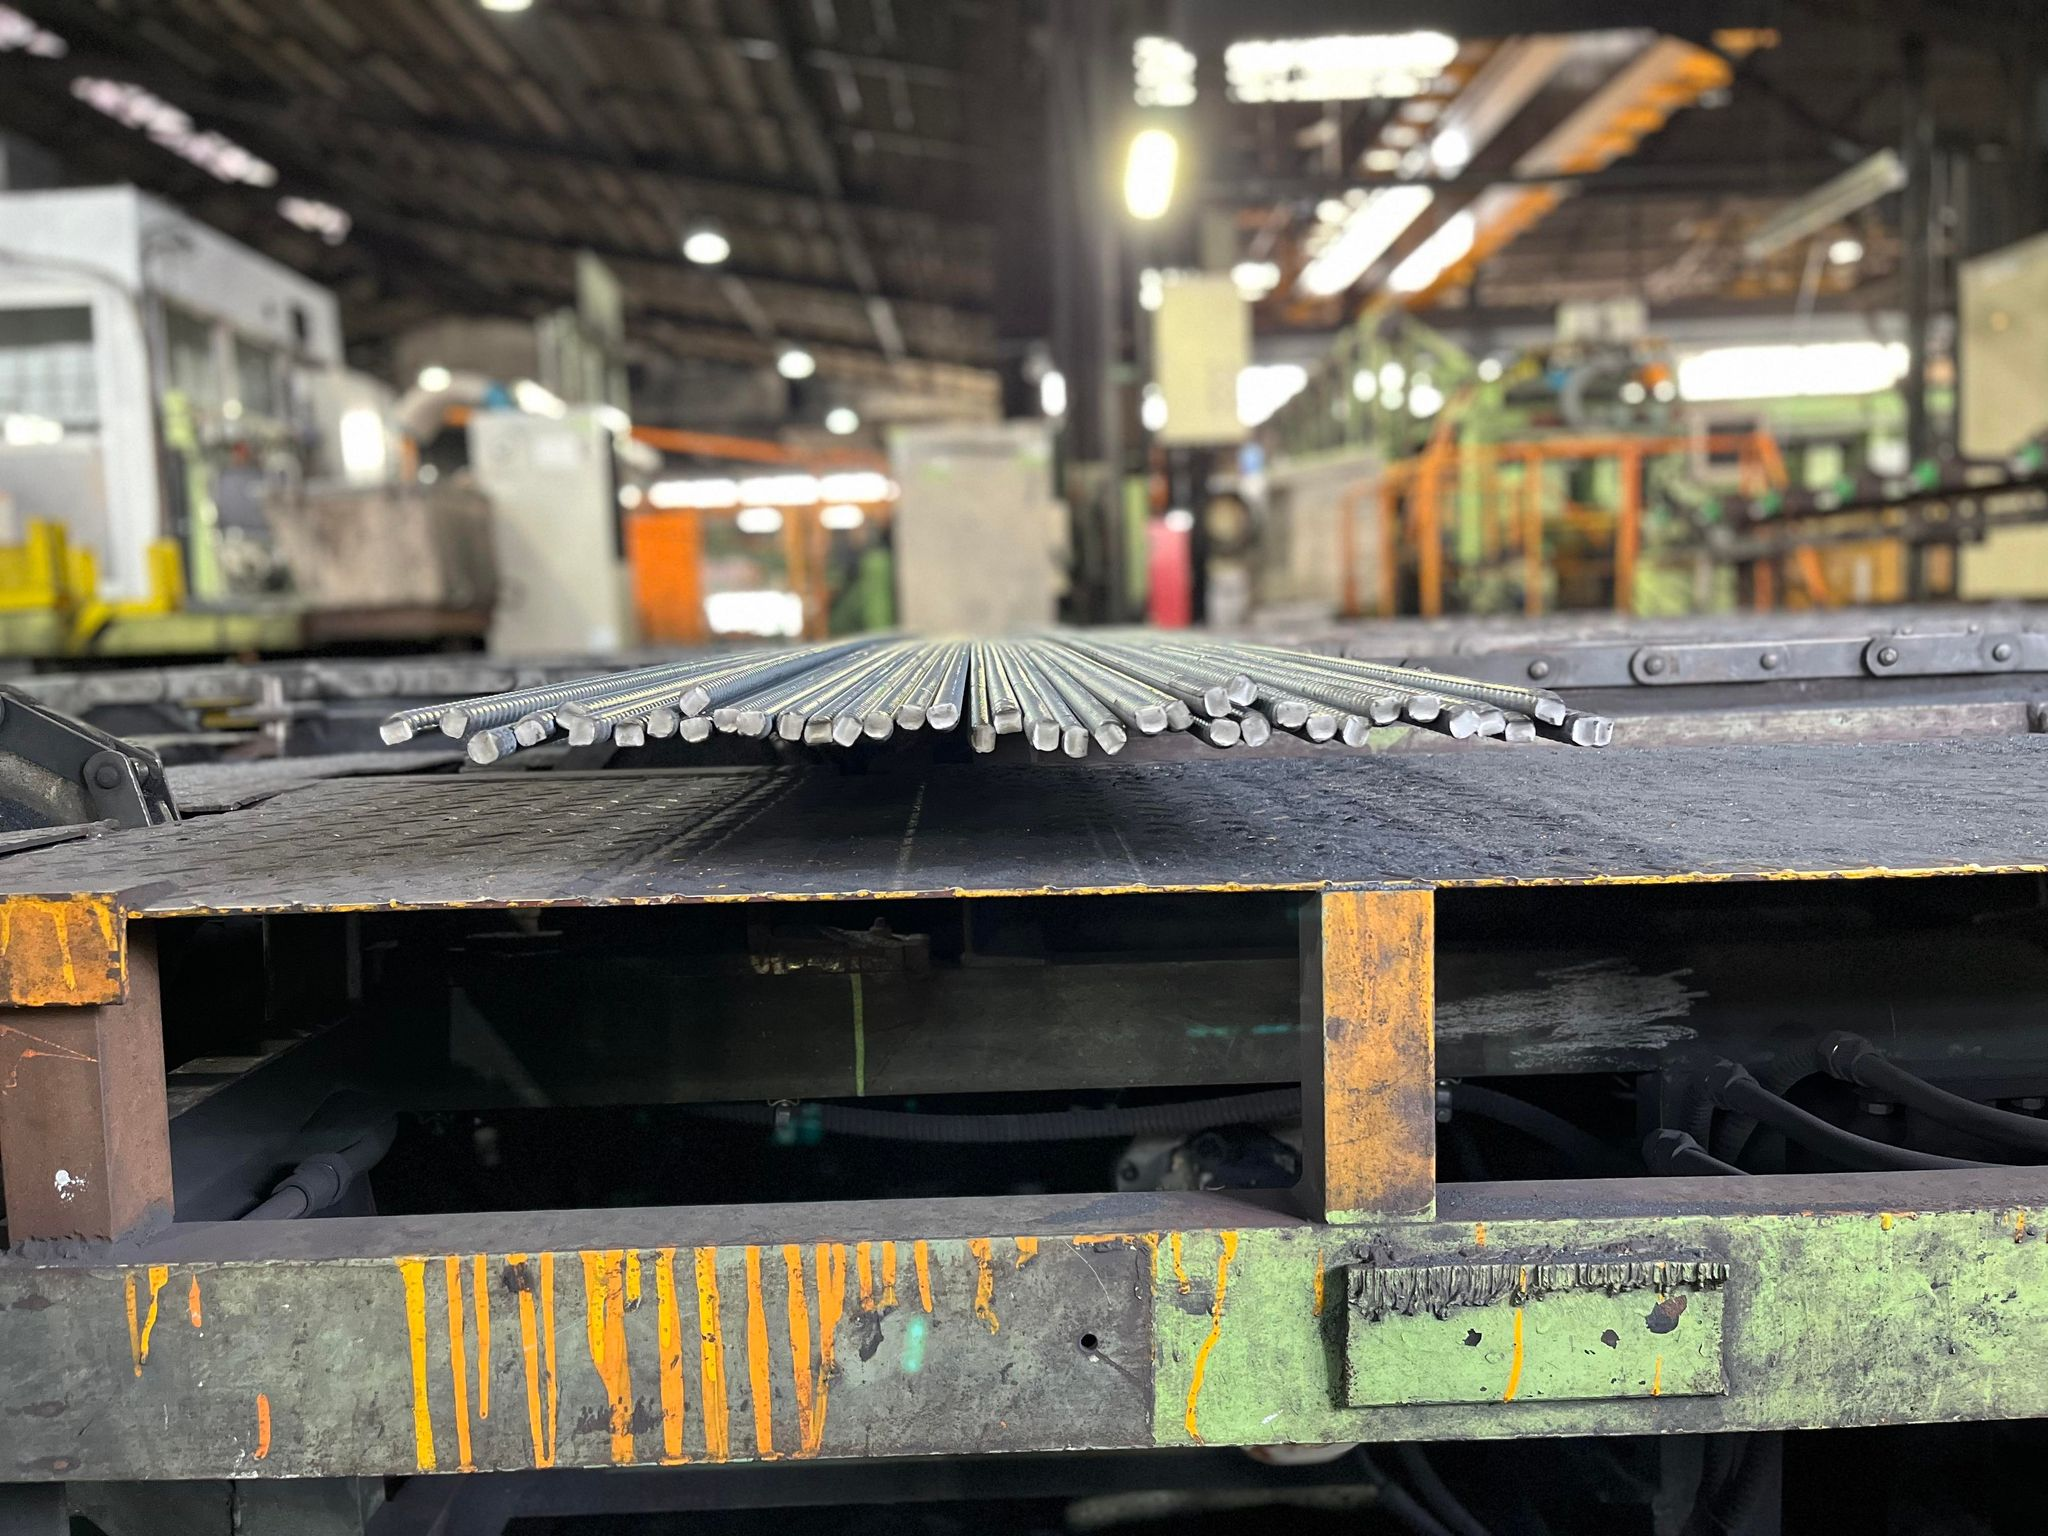rod: (1571, 713, 1614, 750), (464, 728, 502, 765), (1447, 703, 1484, 741), (377, 713, 414, 749), (676, 682, 713, 718), (1092, 721, 1129, 757), (1532, 691, 1567, 728), (435, 705, 469, 741), (1132, 703, 1168, 737), (993, 700, 1026, 736), (1061, 724, 1092, 762), (1240, 712, 1271, 749), (1274, 699, 1311, 729), (564, 715, 597, 749), (645, 705, 677, 739), (1305, 712, 1338, 744), (1369, 694, 1401, 728), (513, 718, 548, 749), (1206, 718, 1242, 749), (1229, 671, 1259, 707), (1342, 713, 1372, 749), (1408, 692, 1443, 723), (1030, 716, 1059, 753), (776, 708, 806, 742), (834, 713, 864, 747), (863, 708, 893, 742), (926, 700, 959, 731), (803, 715, 834, 747), (1505, 715, 1537, 745), (613, 720, 647, 749), (677, 716, 713, 744), (1476, 707, 1506, 737), (556, 700, 589, 729), (735, 708, 768, 737), (1205, 686, 1234, 718), (893, 703, 927, 731), (971, 721, 997, 755), (1168, 699, 1193, 733), (713, 707, 739, 734)
